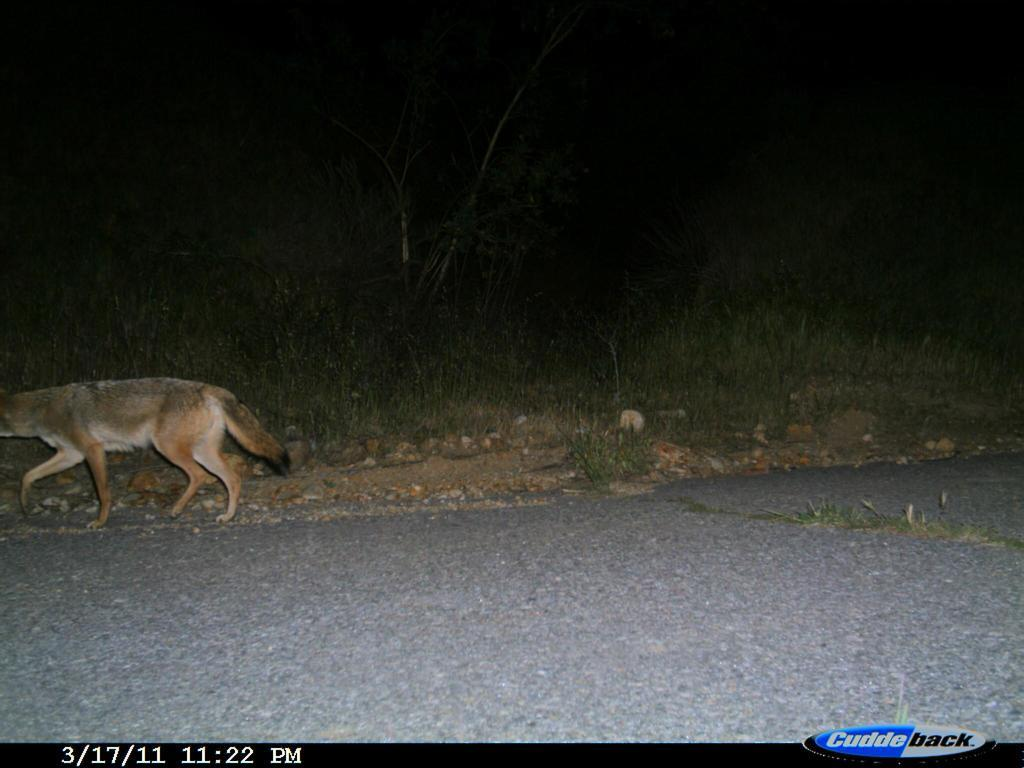coyote: (4, 369, 300, 536)
